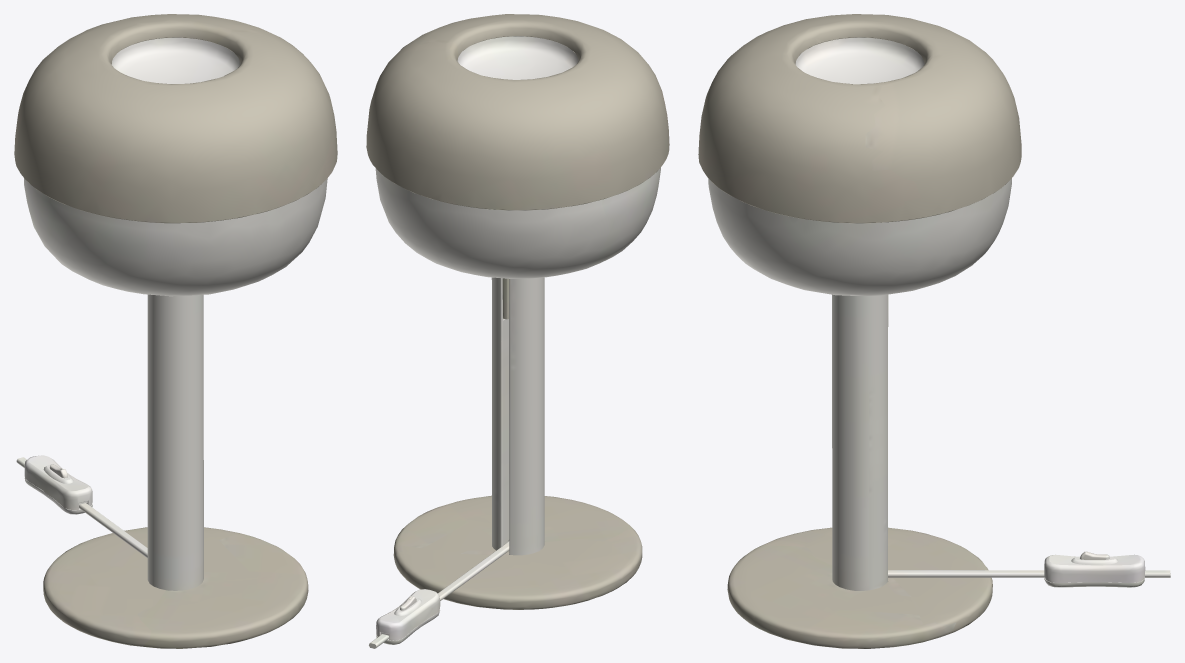
The picture shows the model from 3 angles, left to right: view 1: azimuth 30°, elevation 25°; view 2: azimuth 150°, elevation 25°; view 3: azimuth 270°, elevation 25°; orthographic projection. The views are drawn at different scales.
Visible parts, largest first — view 1: 70520926-BLÃƒÆ’Ã¢â‚¬Â¦SVERK001; view 2: 70520926-BLÃƒÆ’Ã¢â‚¬Â¦SVERK001; view 3: 70520926-BLÃƒÆ’Ã¢â‚¬Â¦SVERK001.
Part boxes in pixels (x1,y1,x2,y2): 70520926-BLÃƒÆ’Ã¢â‚¬Â¦SVERK001: (14, 14, 337, 648); 70520926-BLÃƒÆ’Ã¢â‚¬Â¦SVERK001: (366, 14, 669, 648); 70520926-BLÃƒÆ’Ã¢â‚¬Â¦SVERK001: (698, 14, 1170, 648).
Bounding box in the file's own units: 0.1948 × 0.3595 × 0.2843.
Materials: 1 (1 with a texture image).
